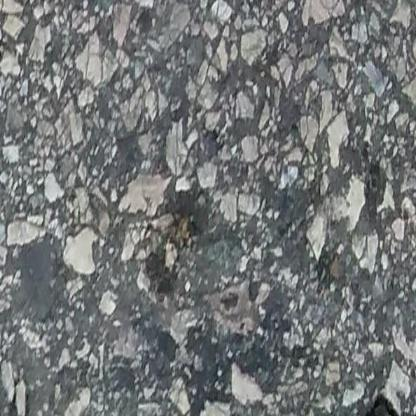Cracks: (354, 394, 416, 416)
